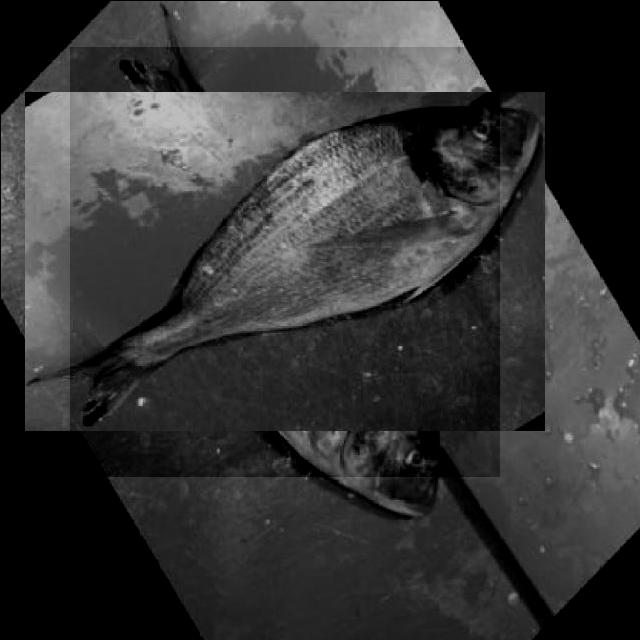Healthy Fish: (69, 46, 499, 476)
